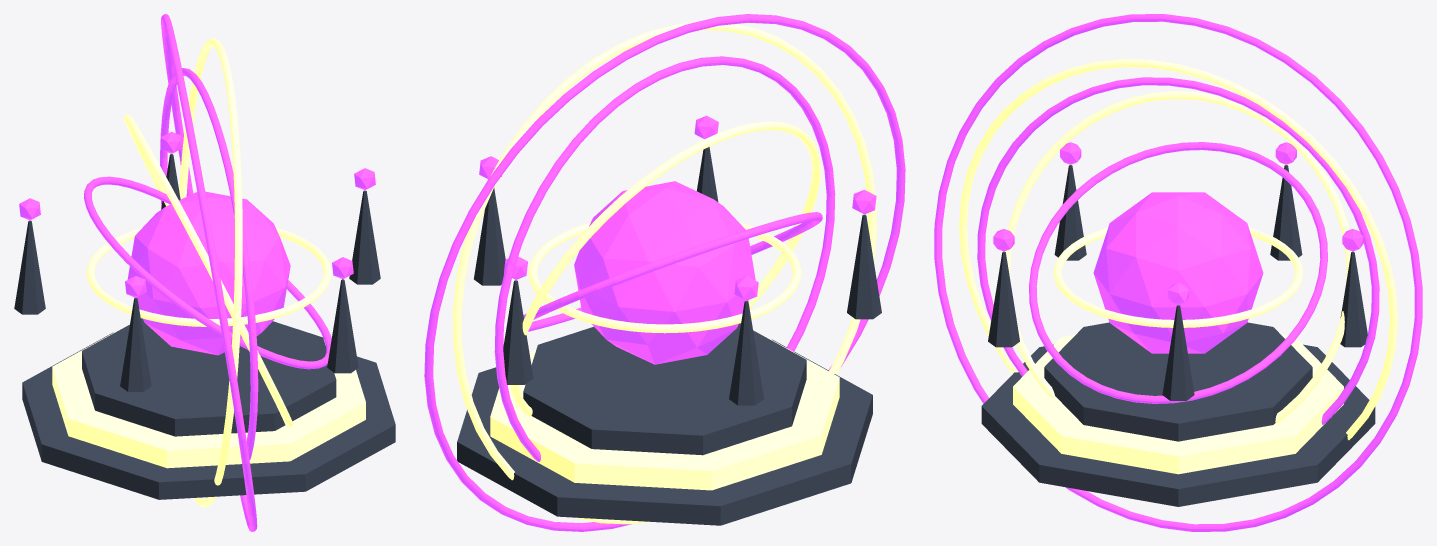
Rendered from gpu-blender-v28.glb.
3 views of the same model, side by side, from view 1: azimuth 30°, elevation 25°; view 2: azimuth 150°, elevation 25°; view 3: azimuth 270°, elevation 25° (orthographic). The views are drawn at different scales.
Parts seen in each view (by area): view 1: Cylinder.002, Cylinder, SovereignCore_hexstrike-arsenal, Cylinder.001, Torus.005, Torus.004, Torus.001, Torus.003, Torus, Torus.002, Cone.004, Cone.002 (+2 smaller); view 2: Cylinder.002, SovereignCore_hexstrike-arsenal, Cylinder, Cylinder.001, Torus.005, Torus.003, Torus.004, Torus.002, Torus, Torus.001, Cone.003, Cone.002 (+3 smaller); view 3: SovereignCore_hexstrike-arsenal, Cylinder.002, Cylinder, Cylinder.001, Torus.005, Torus.004, Torus.001, Torus.003, Torus.002, Torus, Cone.004, Cone (+3 smaller).
Boxes of the visible parts, x1,y1,x2,y2 form: Cylinder.002: (82,318,336,436); Cylinder: (22,332,395,499); SovereignCore_hexstrike-arsenal: (127,191,290,355); Cylinder.001: (52,325,365,468); Torus.005: (161,14,257,531); Torus.004: (179,38,242,507); Torus.001: (84,176,331,369); Torus.003: (160,68,258,459); Torus: (86,227,331,326); Torus.002: (124,114,293,426); Cone.004: (327,279,358,373); Cone.002: (14,220,45,314); Cylinder.002: (523,323,806,455); SovereignCore_hexstrike-arsenal: (574,181,755,364); Cylinder: (457,339,872,525); Cylinder.001: (490,330,839,490); Torus.005: (424,14,905,531); Torus.003: (494,56,835,461); Torus.004: (453,22,876,524); Torus.002: (510,121,820,416); Torus: (528,222,801,333); Torus.001: (523,212,822,331); Cone.003: (847,214,881,319); Cone.002: (729,301,763,405); SovereignCore_hexstrike-arsenal: (1093,192,1263,353); Cylinder.002: (1044,322,1312,441); Cylinder: (981,344,1375,506); Cylinder.001: (1013,334,1343,474); Torus.005: (934,14,1422,531); Torus.004: (959,59,1397,440); Torus.001: (1029,142,1327,403); Torus.003: (977,77,1379,424); Torus.002: (1004,91,1352,423); Torus: (1053,227,1303,327); Cone.004: (988,251,1019,347); Cone: (1162,305,1194,400).
Size of the model in its own units: 4.41 by 5.93 by 5.46.
